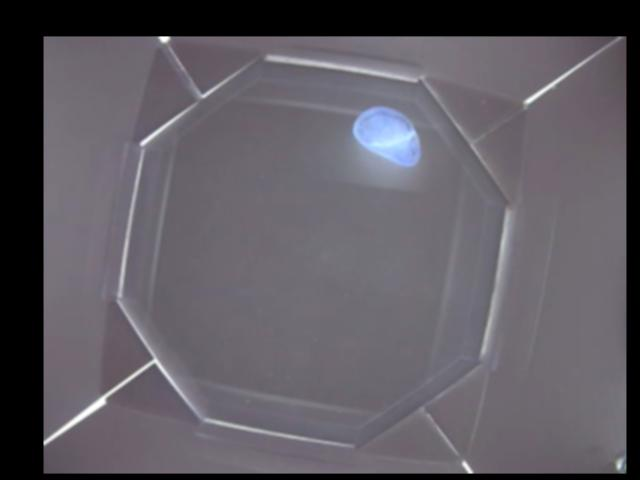Pebble: (349, 105, 427, 166)
